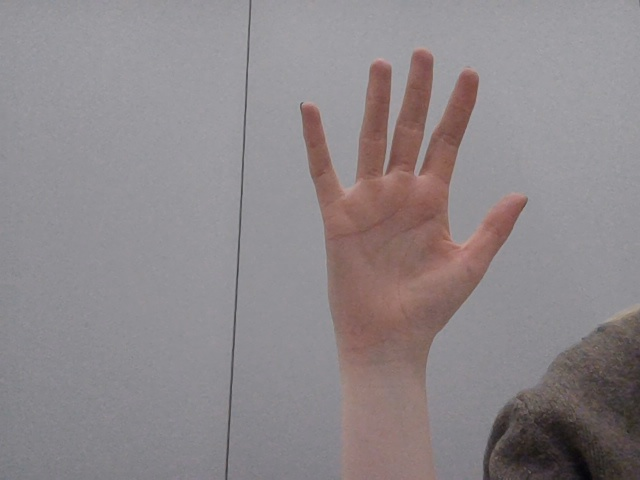nada: (278, 35, 537, 372)
